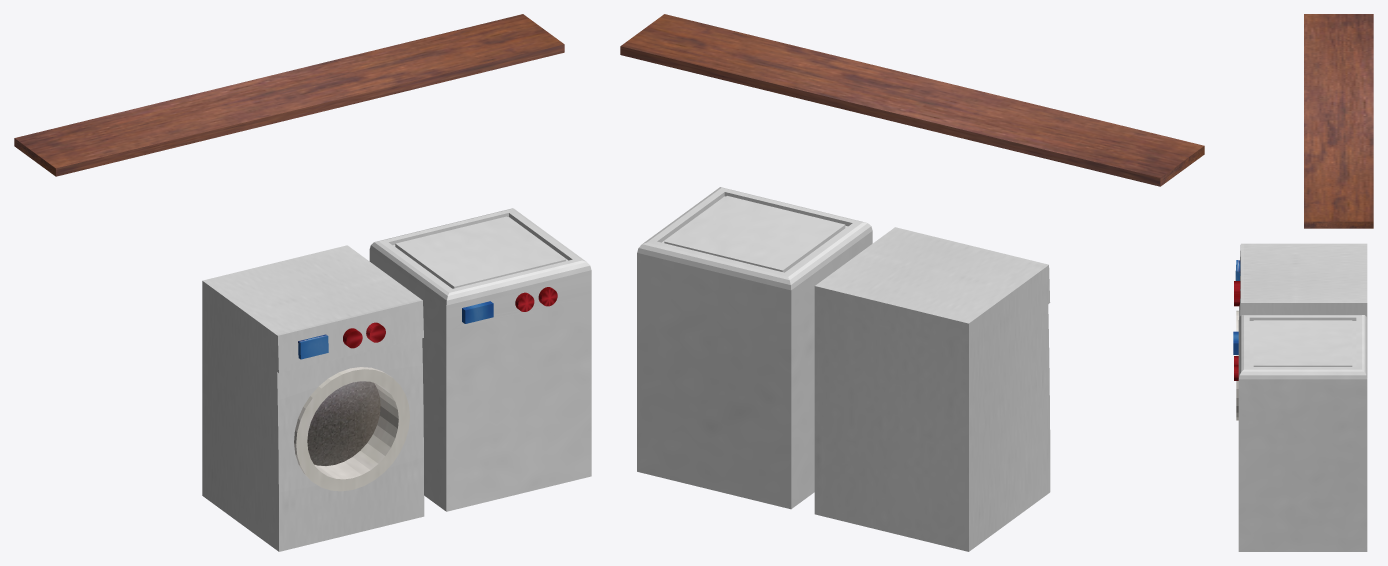
The model's file is LaundryRoom.fbx.
The picture shows the model from 3 angles, left to right: view 1: azimuth 30°, elevation 25°; view 2: azimuth 150°, elevation 25°; view 3: azimuth 270°, elevation 25°; orthographic projection. The views are drawn at different scales.
Parts seen in each view (by area): view 1: Drier; view 2: Drier; view 3: Drier.
Boxes of the visible parts, box(x1,y1,x2,y2) form: Drier: box(14, 14, 591, 551); Drier: box(620, 14, 1204, 551); Drier: box(1233, 14, 1373, 551).
Size of the model in its own units: 210 by 158 by 59.94.
